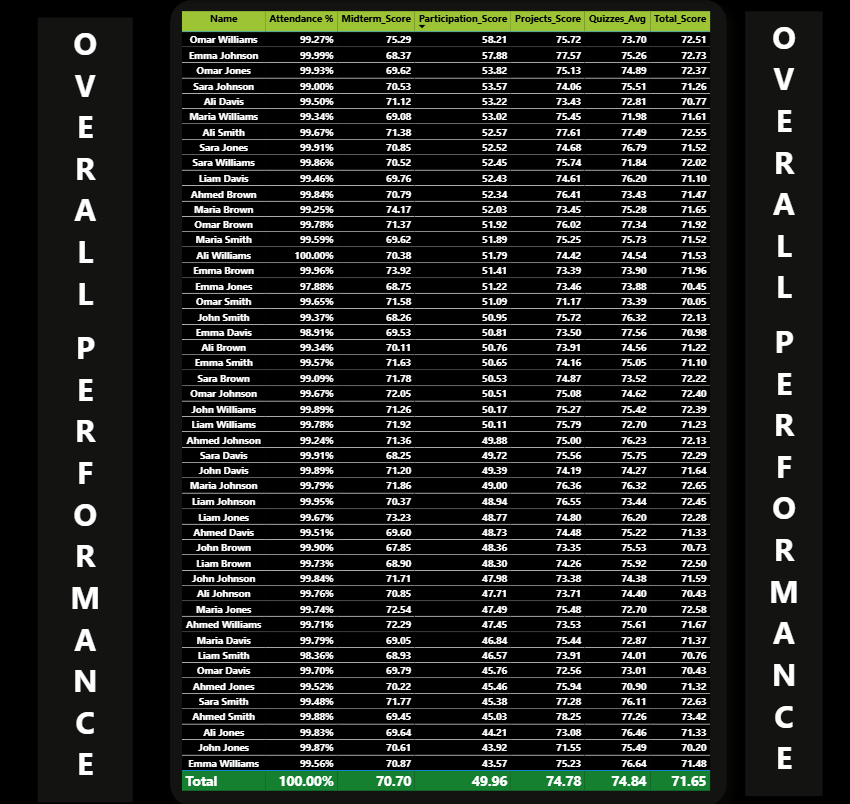

What the dashboard file says about the page in this screenshot:
{"tool":"powerbi","page":{"name":"Overall ","canvas":[1182,1100],"ordinal":2},"visuals":[{"type":"tableEx","fields":{"Values":["Students performance analysis.Name","Sum(Students performance analysis.Attendance (%))","Avg(Students performance analysis.Midterm_Score)","Avg(Students performance analysis.Participation_Score)","Avg(Students performance analysis.Projects_Score)","Avg(Students performance analysis.Quizzes_Avg)","Avg(Students performance analysis.Total_Score)"]},"box":[233.7,0,759.2,1100.3],"z":0},{"type":"textbox","box":[1018.5,15.4,105.8,1071.3],"z":1000},{"type":"textbox","box":[52.9,23.9,129.7,1071.3],"z":2000}]}

Visuals, with their boxes in screenshot pixels (x1, y1, x2, y2), scaled from the page's 1182x1100 canvas onto the 850x804 screenshot:
tableEx - Students performance analysis.Name x Sum(Students performance analysis.Attendance (%)): l=168, t=0, r=714, b=803
textbox: l=732, t=11, r=809, b=794
textbox: l=38, t=17, r=131, b=800
